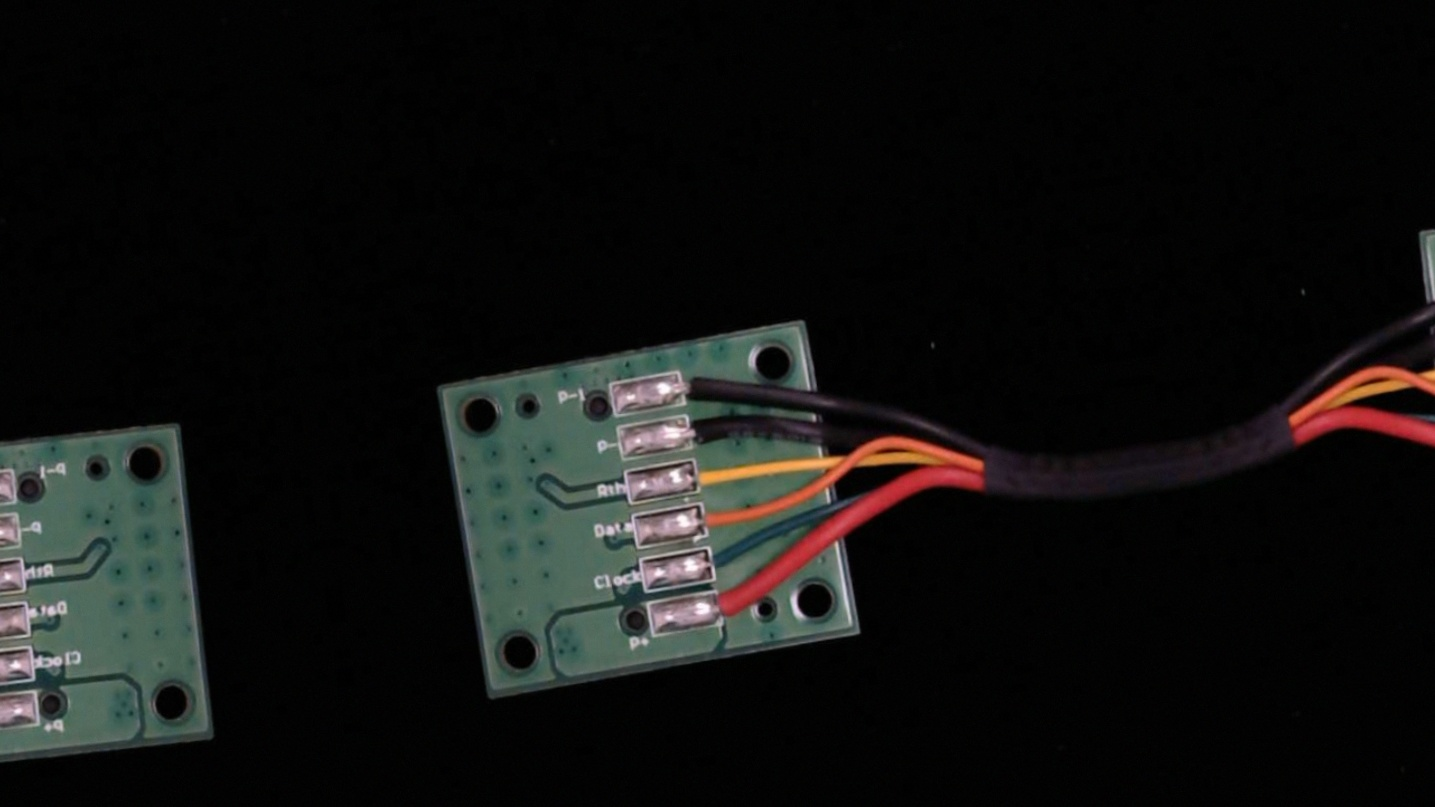Black: (668, 410, 736, 452)
Black1: (662, 365, 737, 407)
Green: (686, 540, 761, 584)
Orange: (681, 497, 761, 541)
Red: (693, 584, 762, 629)
Yellow: (674, 454, 751, 495)
